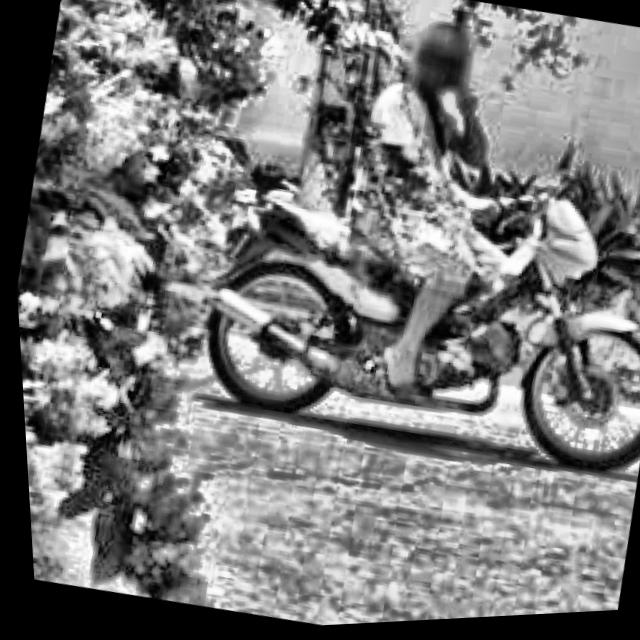motorcycle: (156, 74, 640, 513)
